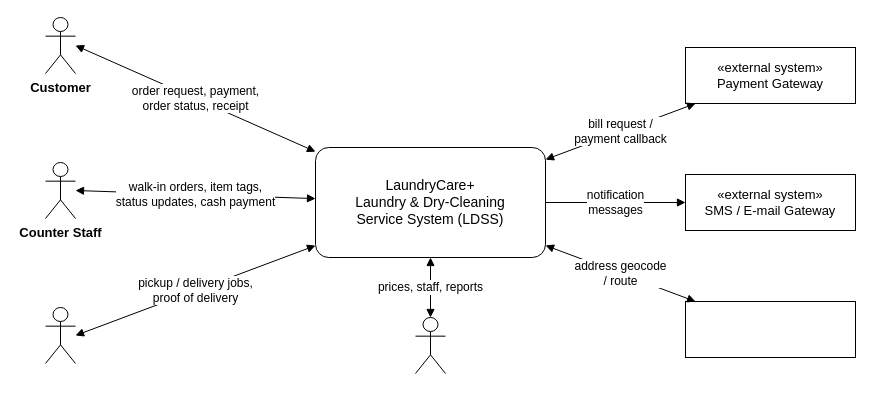
The diagram is 873 pixels wide and 414 high, and some of its shapes have lost their labels. Here are the shapes that lost their labels. From the top down, the box of each, then its label:
(44, 306, 76, 364): Delivery Rider
(414, 316, 446, 374): Branch Manager / Admin
(684, 300, 856, 358): «external system» Maps API
